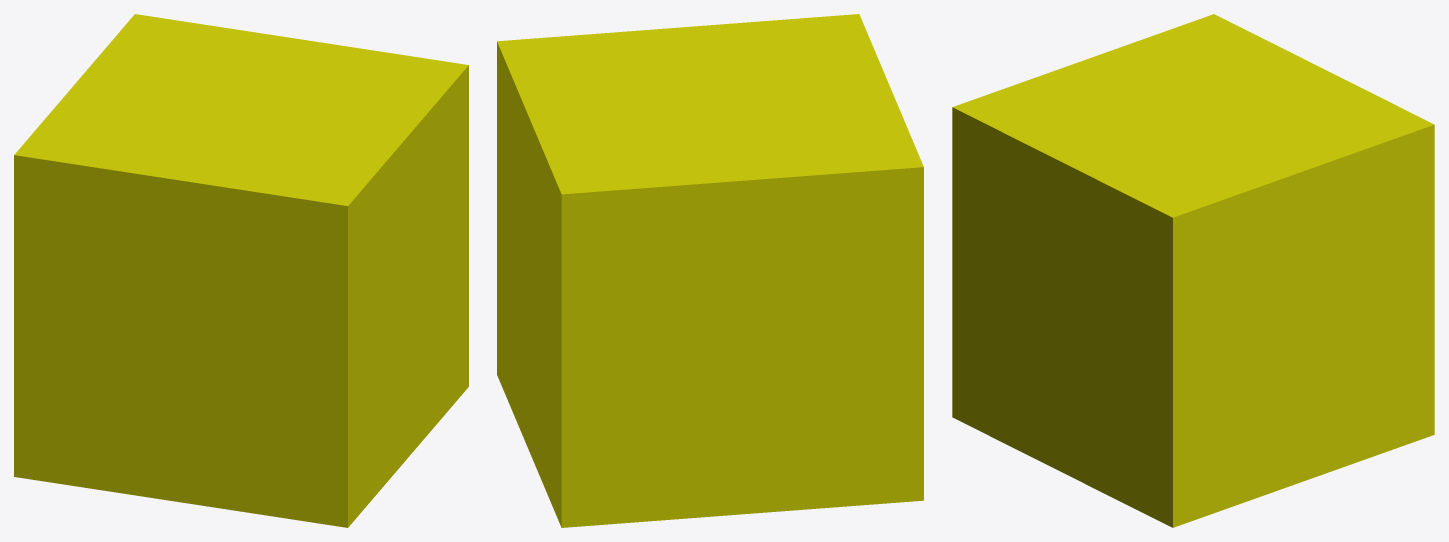
File: shard2.gltf
3 views of the same model, side by side, from view 1: azimuth 30°, elevation 25°; view 2: azimuth 150°, elevation 25°; view 3: azimuth 270°, elevation 25° (orthographic). The views are drawn at different scales.
Parts seen in each view (by area): view 1: shard2_mesh; view 2: shard2_mesh; view 3: shard2_mesh.
Part boxes in pixels (x1=…): shard2_mesh: x1=14, y1=14, x2=468, y2=527; shard2_mesh: x1=497, y1=14, x2=923, y2=527; shard2_mesh: x1=952, y1=14, x2=1434, y2=527.
Size of the model in its own units: 1.41 by 1 by 1.41.
